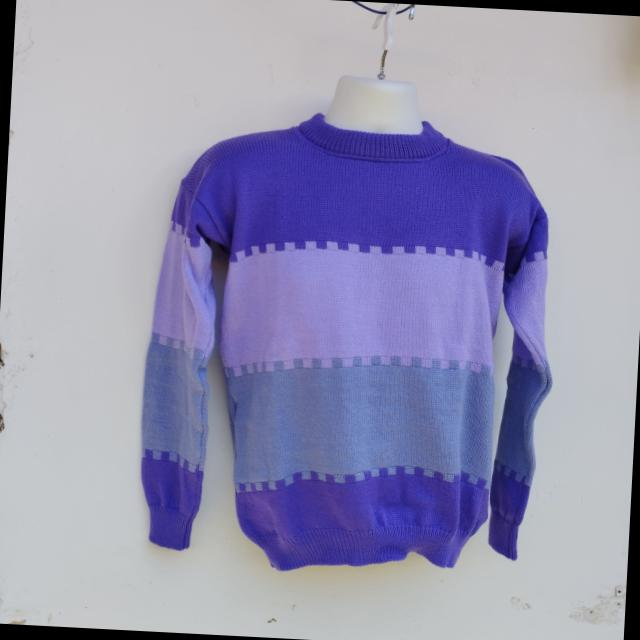Chompa: (133, 63, 568, 584)
